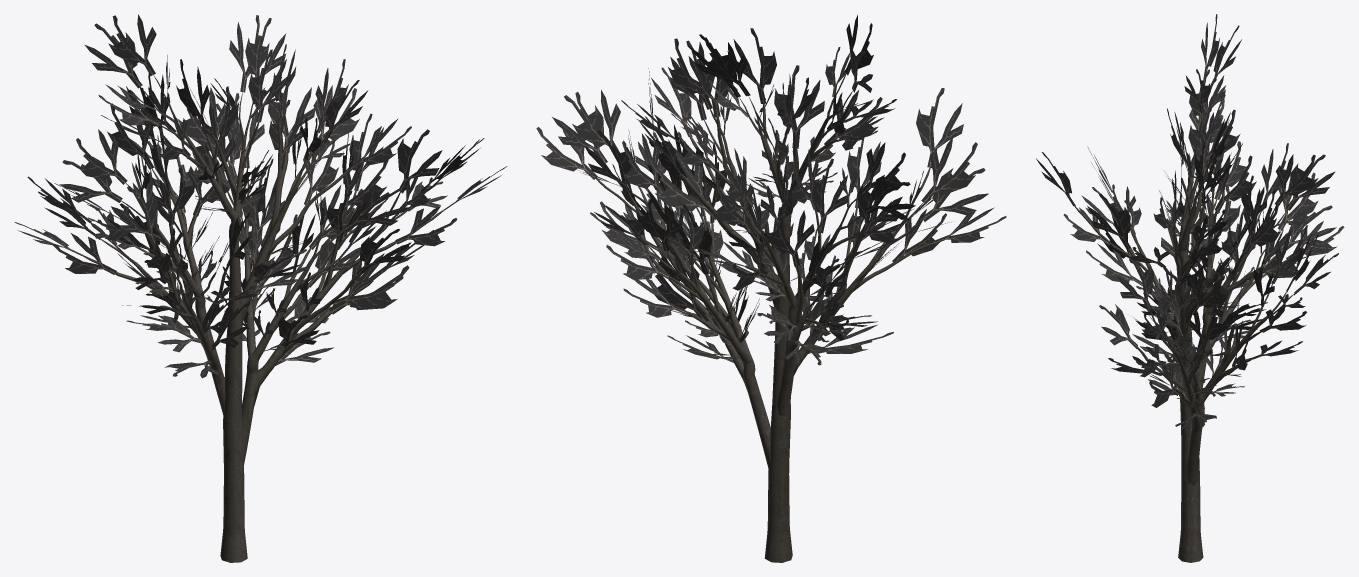
File: sm10_011_roadtree.fbx
The picture shows the model from 3 angles, left to right: view 1: azimuth 30°, elevation 25°; view 2: azimuth 150°, elevation 25°; view 3: azimuth 270°, elevation 25°; orthographic projection. The views are drawn at different scales.
Parts seen in each view (by area): view 1: LOD_1_Group_0_Sub_1__sm10_011_roadTree_A_Mat, LOD_1_Group_0_Sub_2__sm10_011_roadTree_B_Mat; view 2: LOD_1_Group_0_Sub_1__sm10_011_roadTree_A_Mat, LOD_1_Group_0_Sub_2__sm10_011_roadTree_B_Mat; view 3: LOD_1_Group_0_Sub_1__sm10_011_roadTree_A_Mat, LOD_1_Group_0_Sub_2__sm10_011_roadTree_B_Mat.
Part boxes in pixels (x1,y1,x2,y2): LOD_1_Group_0_Sub_1__sm10_011_roadTree_A_Mat: (14, 14, 507, 378); LOD_1_Group_0_Sub_2__sm10_011_roadTree_B_Mat: (82, 75, 443, 562); LOD_1_Group_0_Sub_1__sm10_011_roadTree_A_Mat: (536, 15, 1006, 365); LOD_1_Group_0_Sub_2__sm10_011_roadTree_B_Mat: (596, 73, 931, 562); LOD_1_Group_0_Sub_1__sm10_011_roadTree_A_Mat: (1036, 14, 1344, 429); LOD_1_Group_0_Sub_2__sm10_011_roadTree_B_Mat: (1074, 83, 1293, 562).
Size of the model in its own units: 10.35 by 13.05 by 7.33.
